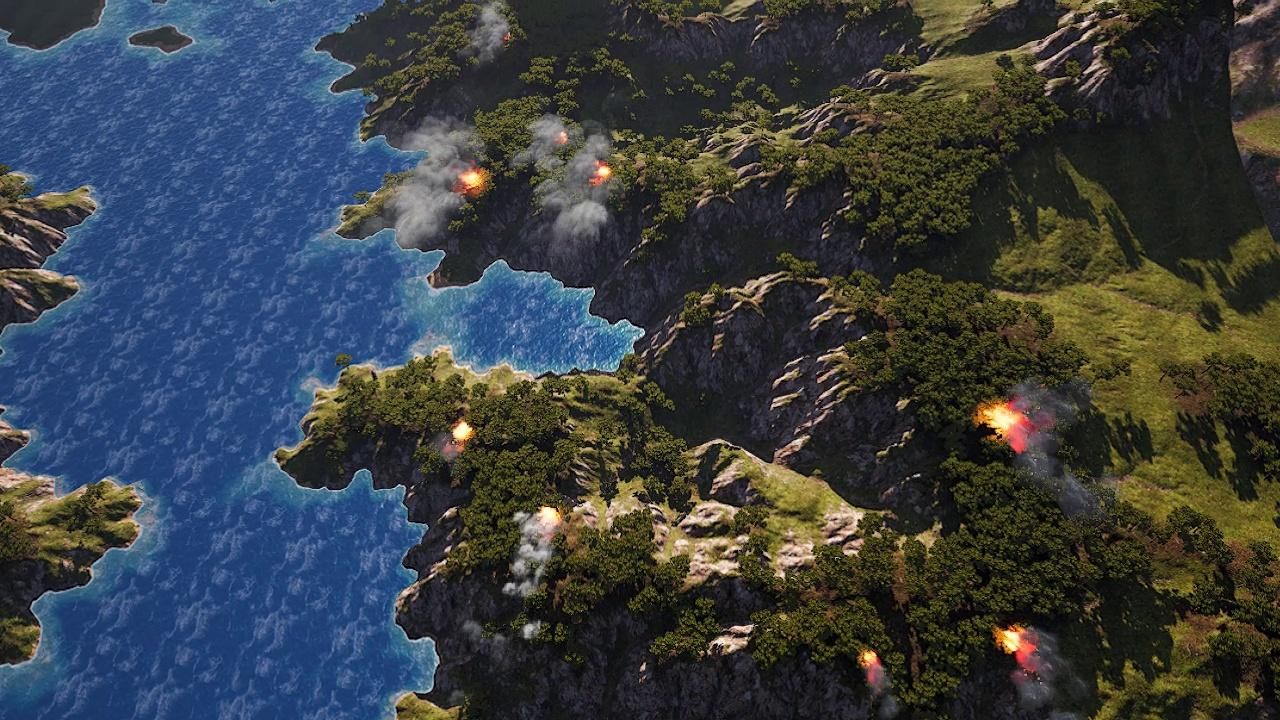fire: (982, 404, 1027, 441), (998, 627, 1035, 659), (461, 171, 487, 195), (540, 506, 563, 526), (591, 161, 609, 184), (451, 423, 470, 441), (858, 652, 878, 669), (557, 130, 569, 143), (501, 32, 511, 45)
smoke: (1015, 378, 1109, 522), (385, 112, 481, 251), (522, 112, 616, 244), (1016, 631, 1099, 720), (502, 510, 559, 602), (464, 1, 512, 65), (870, 668, 903, 720), (432, 432, 461, 461)
